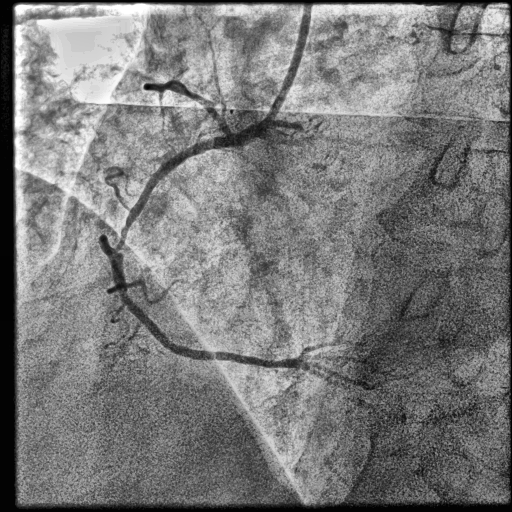rca: (111, 115, 302, 370)
